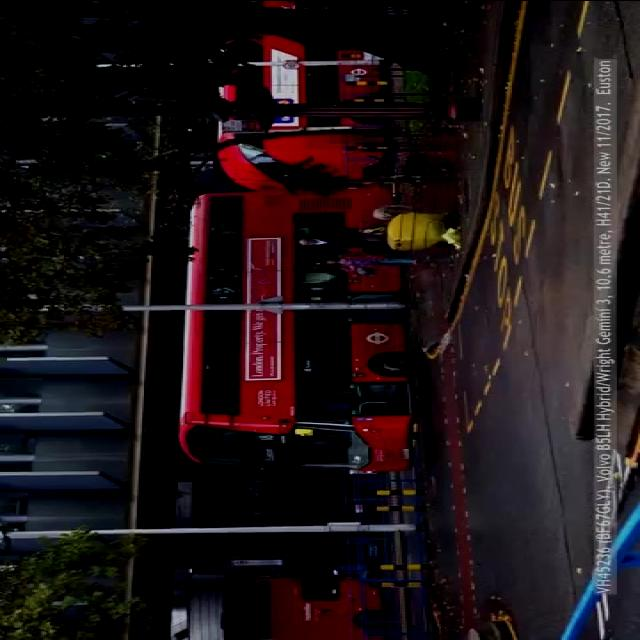bus: (172, 193, 428, 467), (205, 17, 379, 191), (200, 563, 414, 640)
